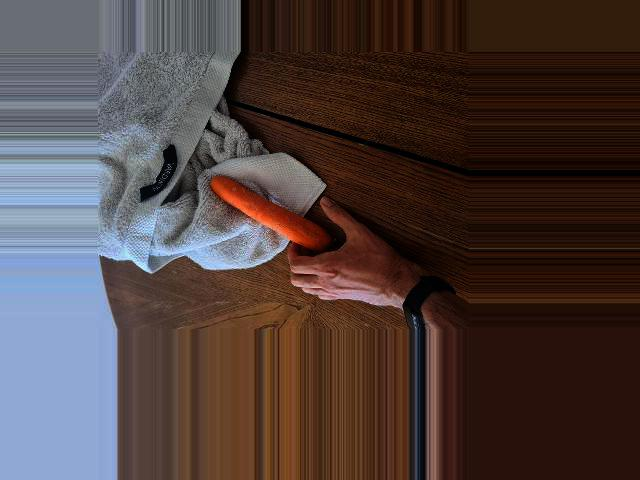carrot: (208, 174, 338, 254)
